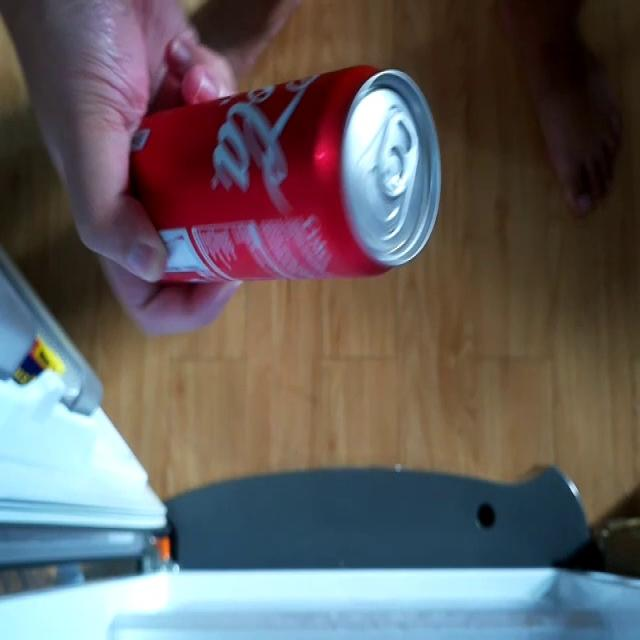coke: (123, 59, 445, 286)
